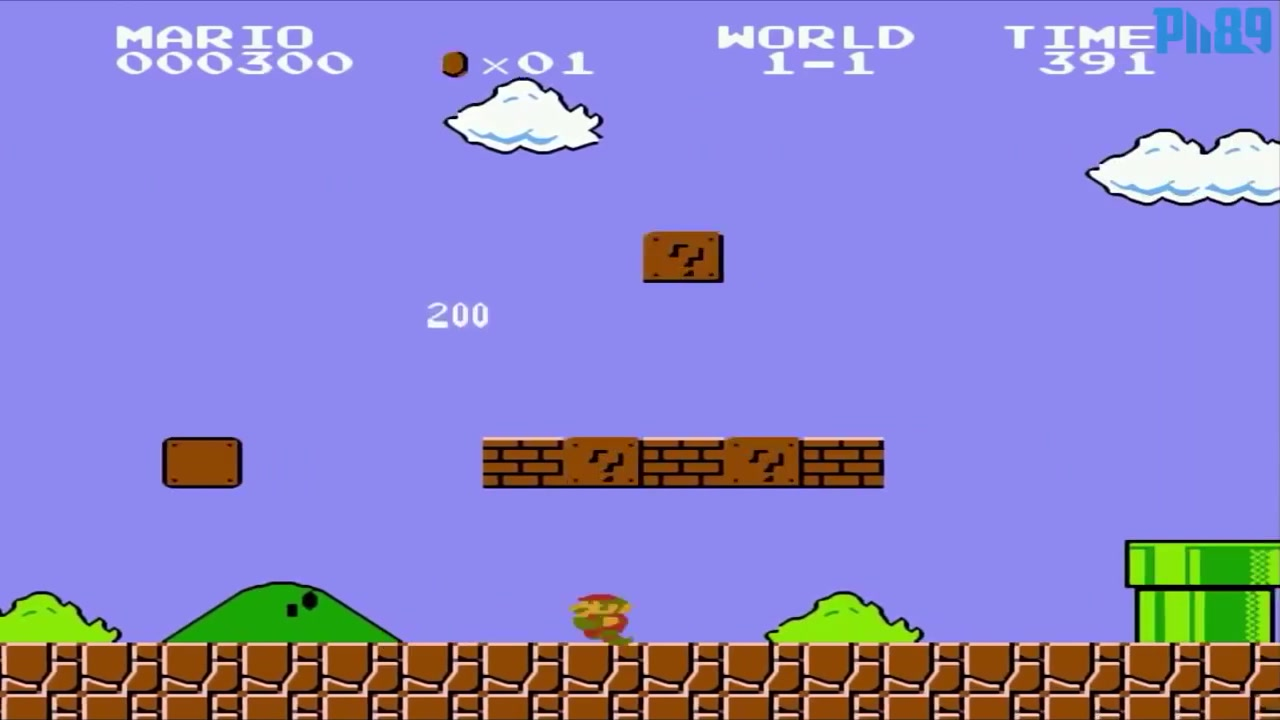mario: (560, 587, 642, 650)
